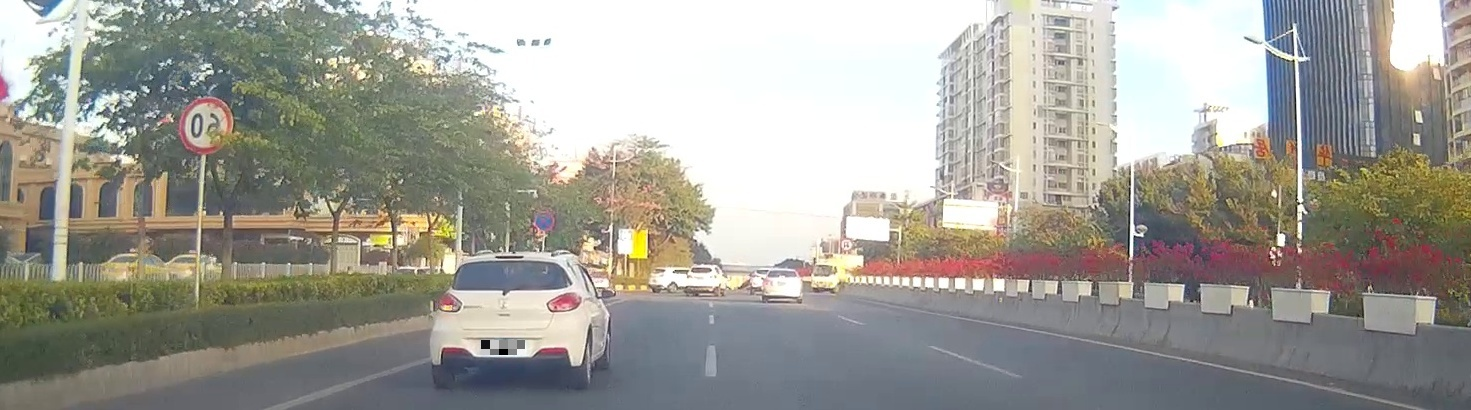L_light: (437, 292, 464, 313)
R_light: (546, 291, 581, 312)
T_light: (494, 255, 525, 259)
day-left: (429, 251, 583, 388)
plate_1: (481, 340, 525, 355)
